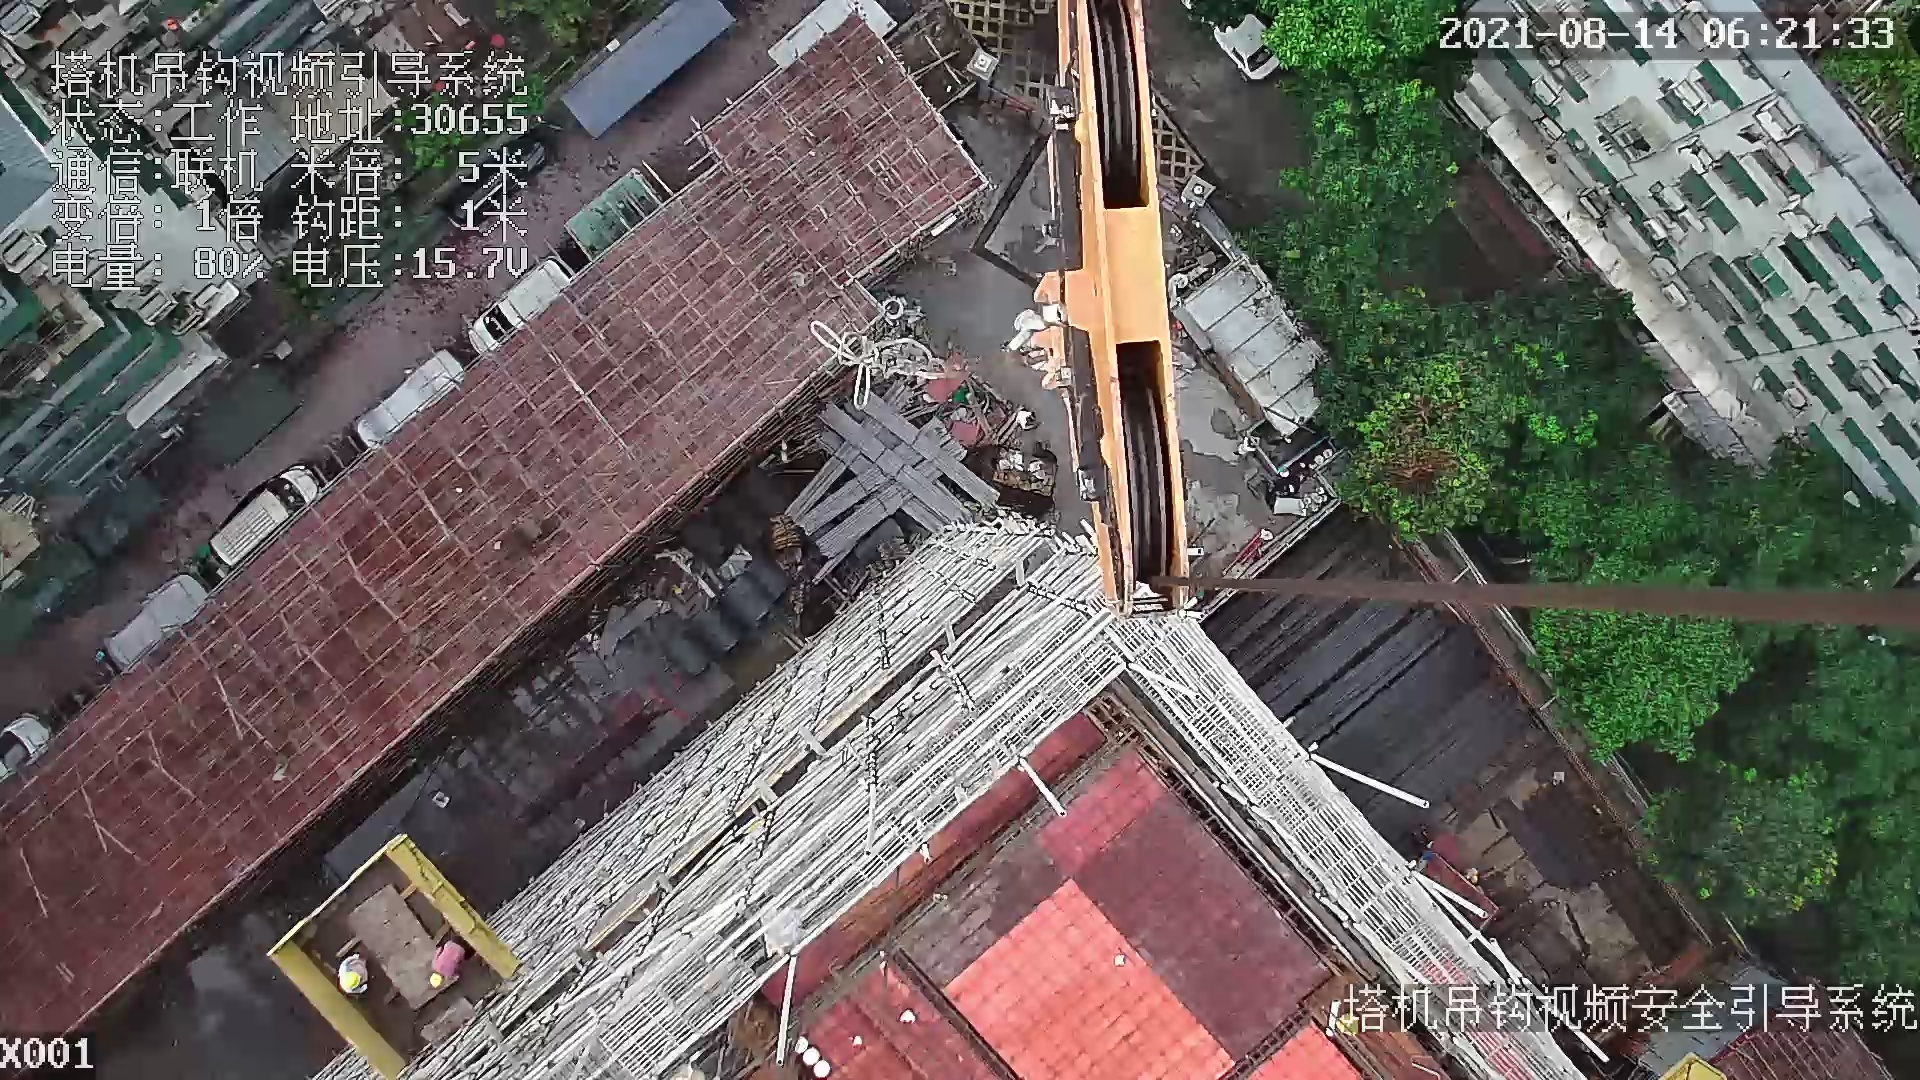helmet: (341, 971, 361, 990), (427, 973, 443, 988)
hook: (1015, 1, 1192, 622)
person: (419, 941, 465, 996), (333, 956, 374, 996)
scaffold: (790, 392, 1008, 555)
